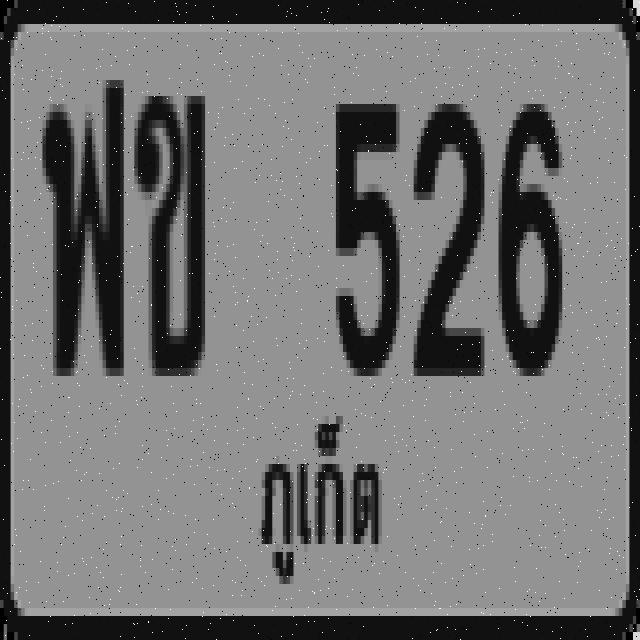11KhorKhai: (128, 63, 224, 407)
2: (408, 74, 488, 420)
40ForFun: (39, 44, 131, 406)
5: (320, 82, 412, 392)
6: (492, 81, 574, 413)
Phuket: (242, 397, 396, 589)
